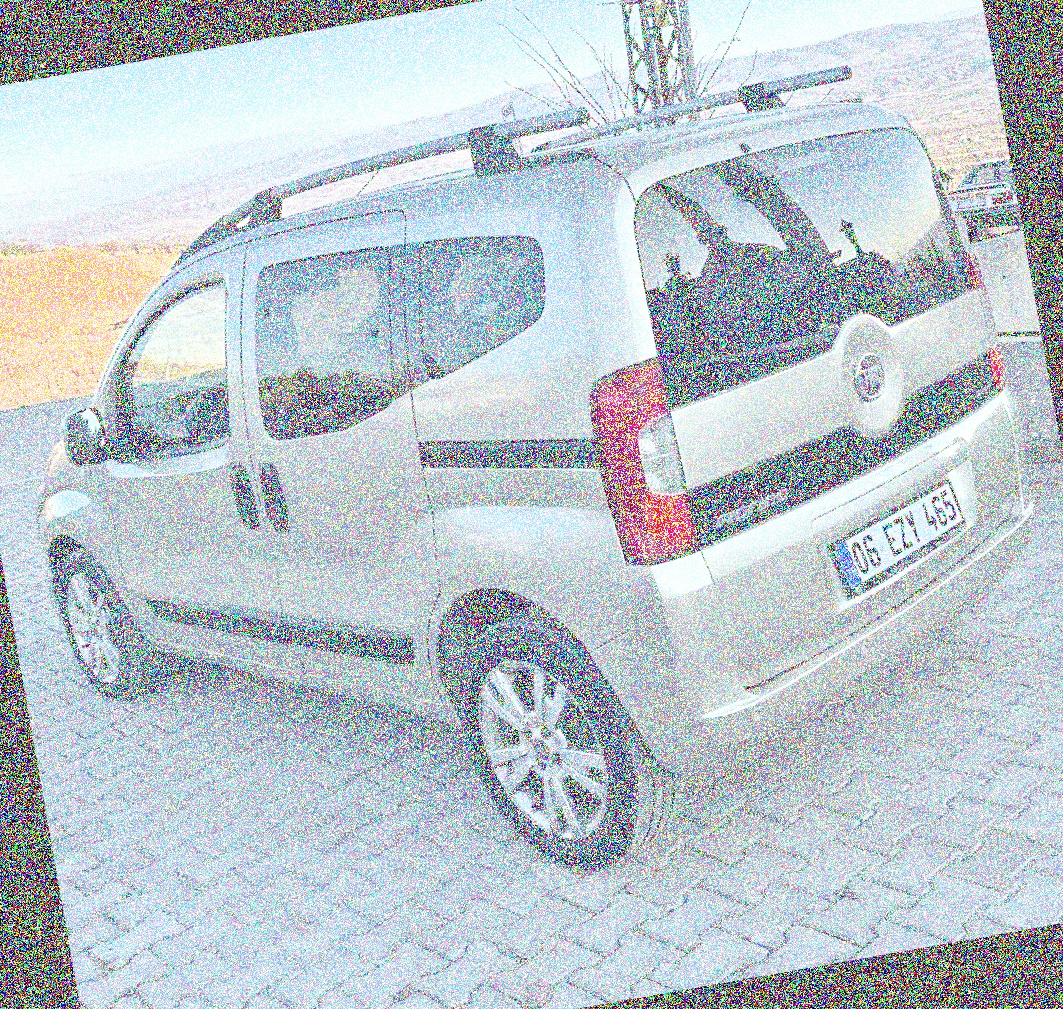plaka: (845, 475, 967, 594)
